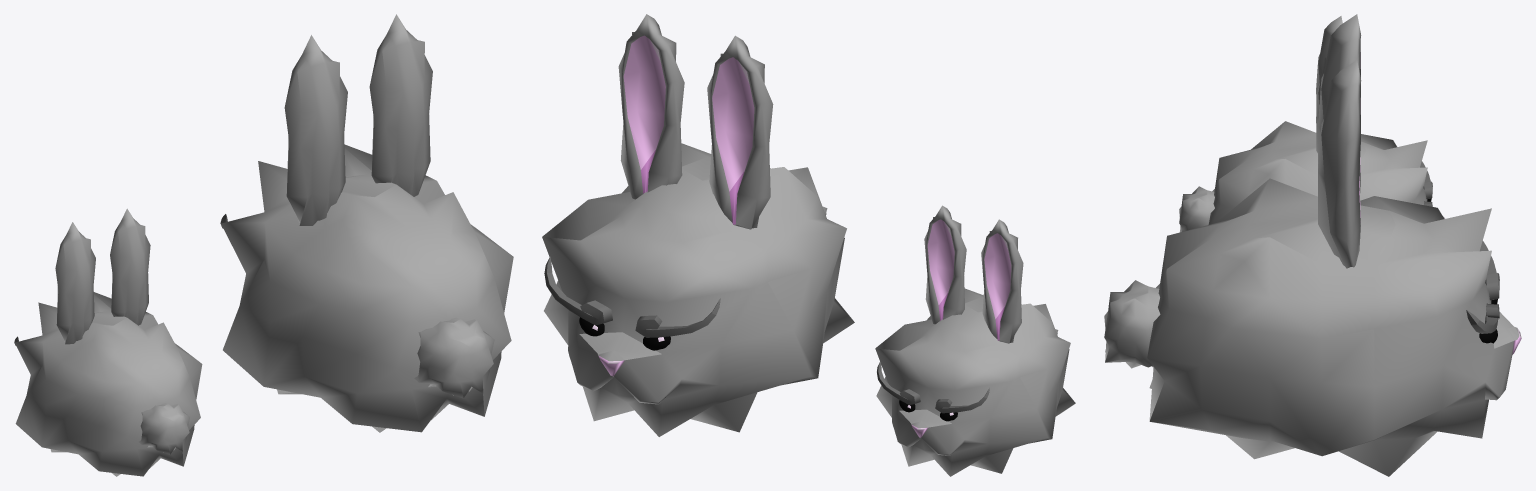
Rendered from Dust bunny_NO animation_2 sizes.fbx.
3 renders of one model, left to right at view 1: azimuth 30°, elevation 25°; view 2: azimuth 150°, elevation 25°; view 3: azimuth 270°, elevation 25°, orthographic. The views are drawn at different scales.
Parts seen in each view (by area): view 1: pasted__pCube52 (×2); view 2: pasted__pCube52 (×2); view 3: pasted__pCube52 (×2).
Boxes of the visible parts, left/top/right/bottom form: pasted__pCube52 (×2): left=14, top=14, right=513, bottom=476; pasted__pCube52 (×2): left=542, top=14, right=1075, bottom=476; pasted__pCube52 (×2): left=1104, top=14, right=1521, bottom=476.
Bounding box in the file's own units: 33.31 × 24.8 × 23.11.
